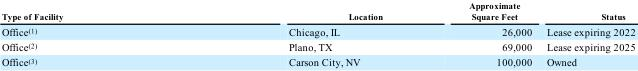table: (1, 0, 634, 67)
table column: (175, 0, 425, 67), (1, 0, 175, 67), (425, 0, 538, 67), (538, 0, 634, 67)
table column header: (1, 0, 634, 23)
table row: (1, 0, 634, 23), (1, 38, 634, 54), (1, 23, 634, 38), (1, 54, 634, 67)
